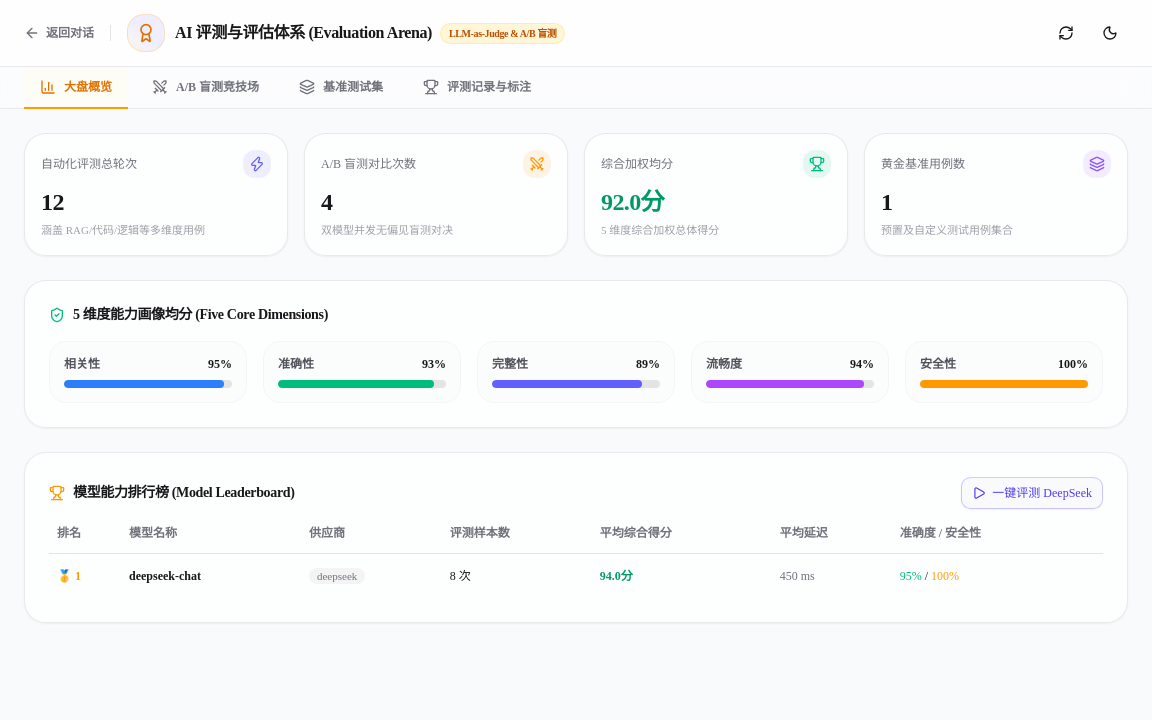
Scenario: EvaluationPage › 切换到 A/B 盲测竞技场 Tab 并渲染对决表单
Click the button "A/B 盲测竞技场" at (206, 88), box left=136, top=67, right=275, bottom=109
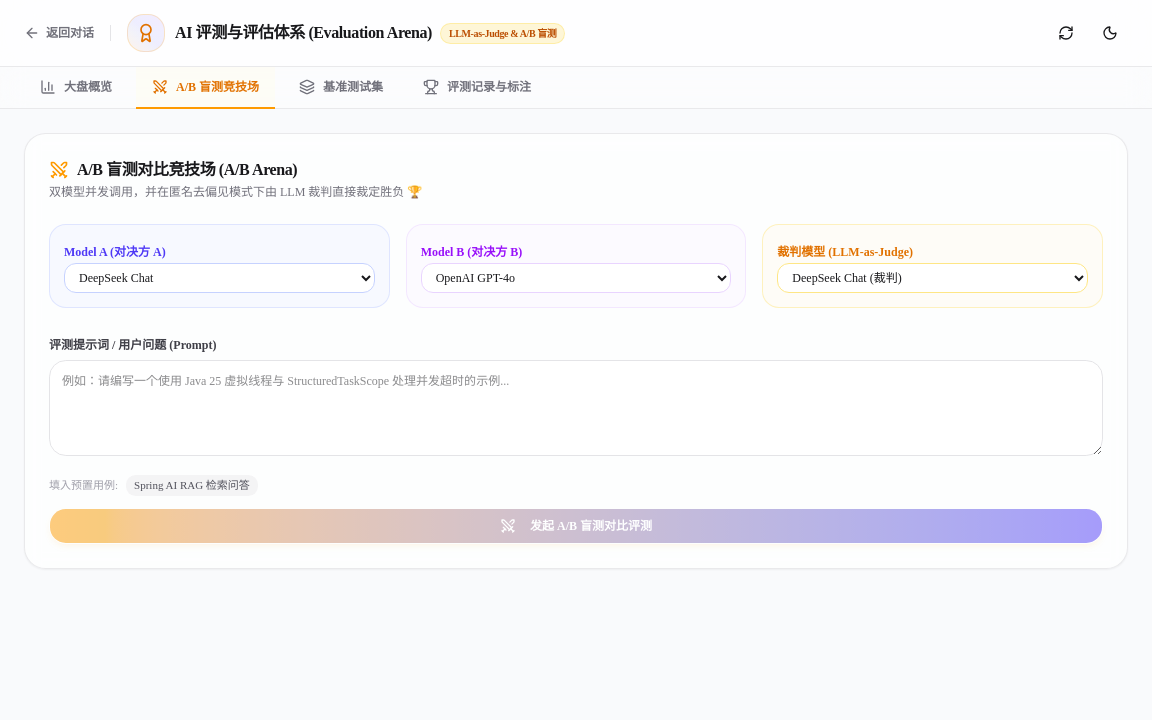
Expected: the text "Model A (对决方 A)" is shown, left=64, top=245, right=166, bottom=259
Expected: the text "Model B (对决方 B)" is shown, left=421, top=245, right=522, bottom=259
Expected: the text "发起 A/B 盲测对比评测" is shown, left=49, top=508, right=1103, bottom=544
